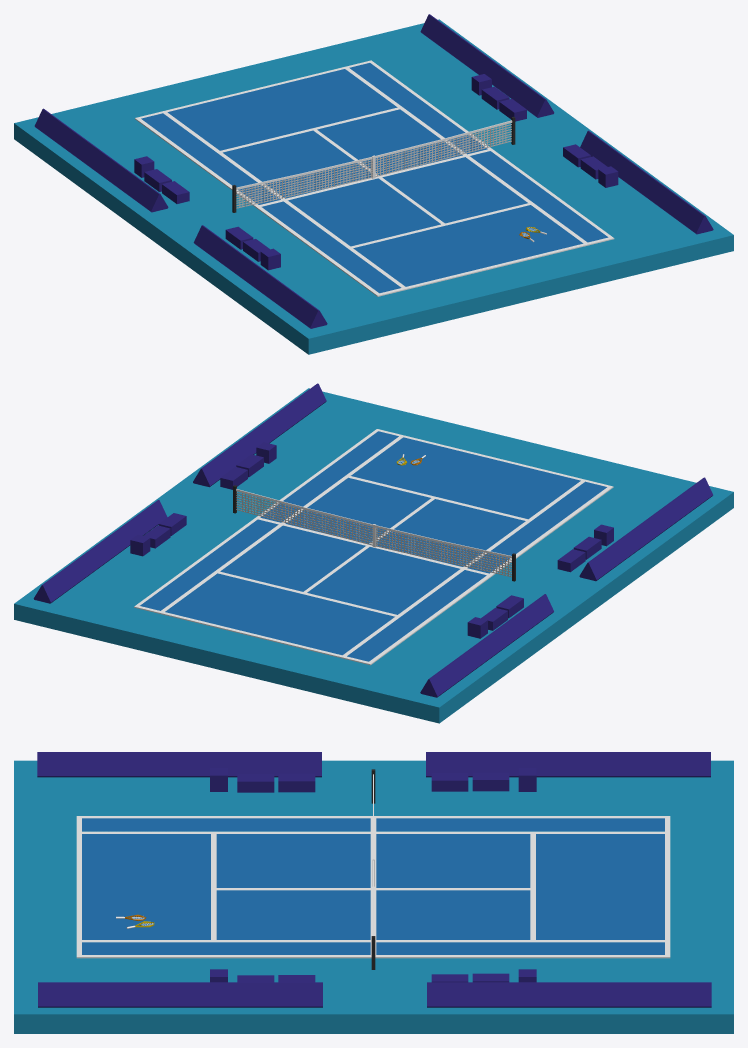
Rendered from tennis-court.lod1.glb.
3 views of the same model, one above another, from view 1: azimuth 30°, elevation 25°; view 2: azimuth 150°, elevation 25°; view 3: azimuth 270°, elevation 25° (orthographic). The views are drawn at different scales.
Parts seen in each view (by area): view 1: GeoSphere001_yellow_0, Plane034_white_0, Plane035_gray_0; view 2: GeoSphere001_yellow_0, Plane034_white_0, Plane035_gray_0; view 3: GeoSphere001_yellow_0, Plane034_white_0.
Part boxes in pixels (bbox=[...]): GeoSphere001_yellow_0: bbox=[14, 14, 733, 354]; Plane034_white_0: bbox=[135, 60, 614, 296]; Plane035_gray_0: bbox=[236, 124, 511, 208]; GeoSphere001_yellow_0: bbox=[14, 383, 733, 723]; Plane034_white_0: bbox=[134, 429, 613, 665]; Plane035_gray_0: bbox=[236, 492, 511, 577]; GeoSphere001_yellow_0: bbox=[14, 752, 733, 1033]; Plane034_white_0: bbox=[76, 774, 670, 958].
Size of the model in its own units: 25.01 by 2.46 by 30.
